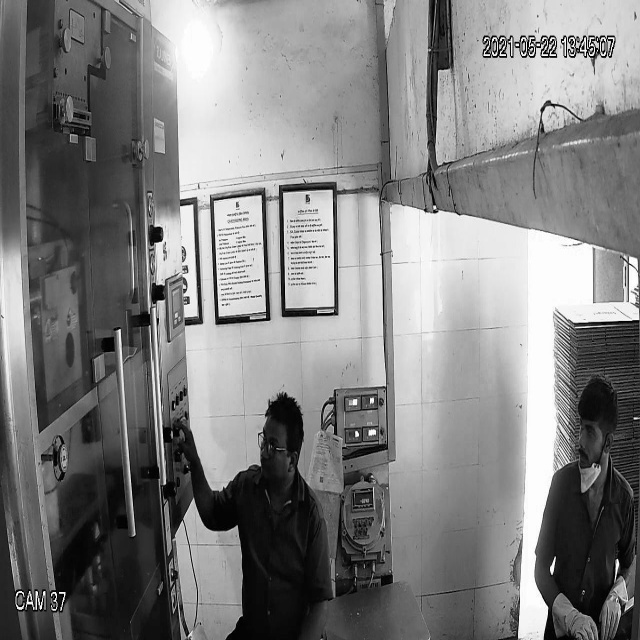Gafas: (256, 428, 299, 462)
Sin_gafas: (573, 418, 613, 446)
